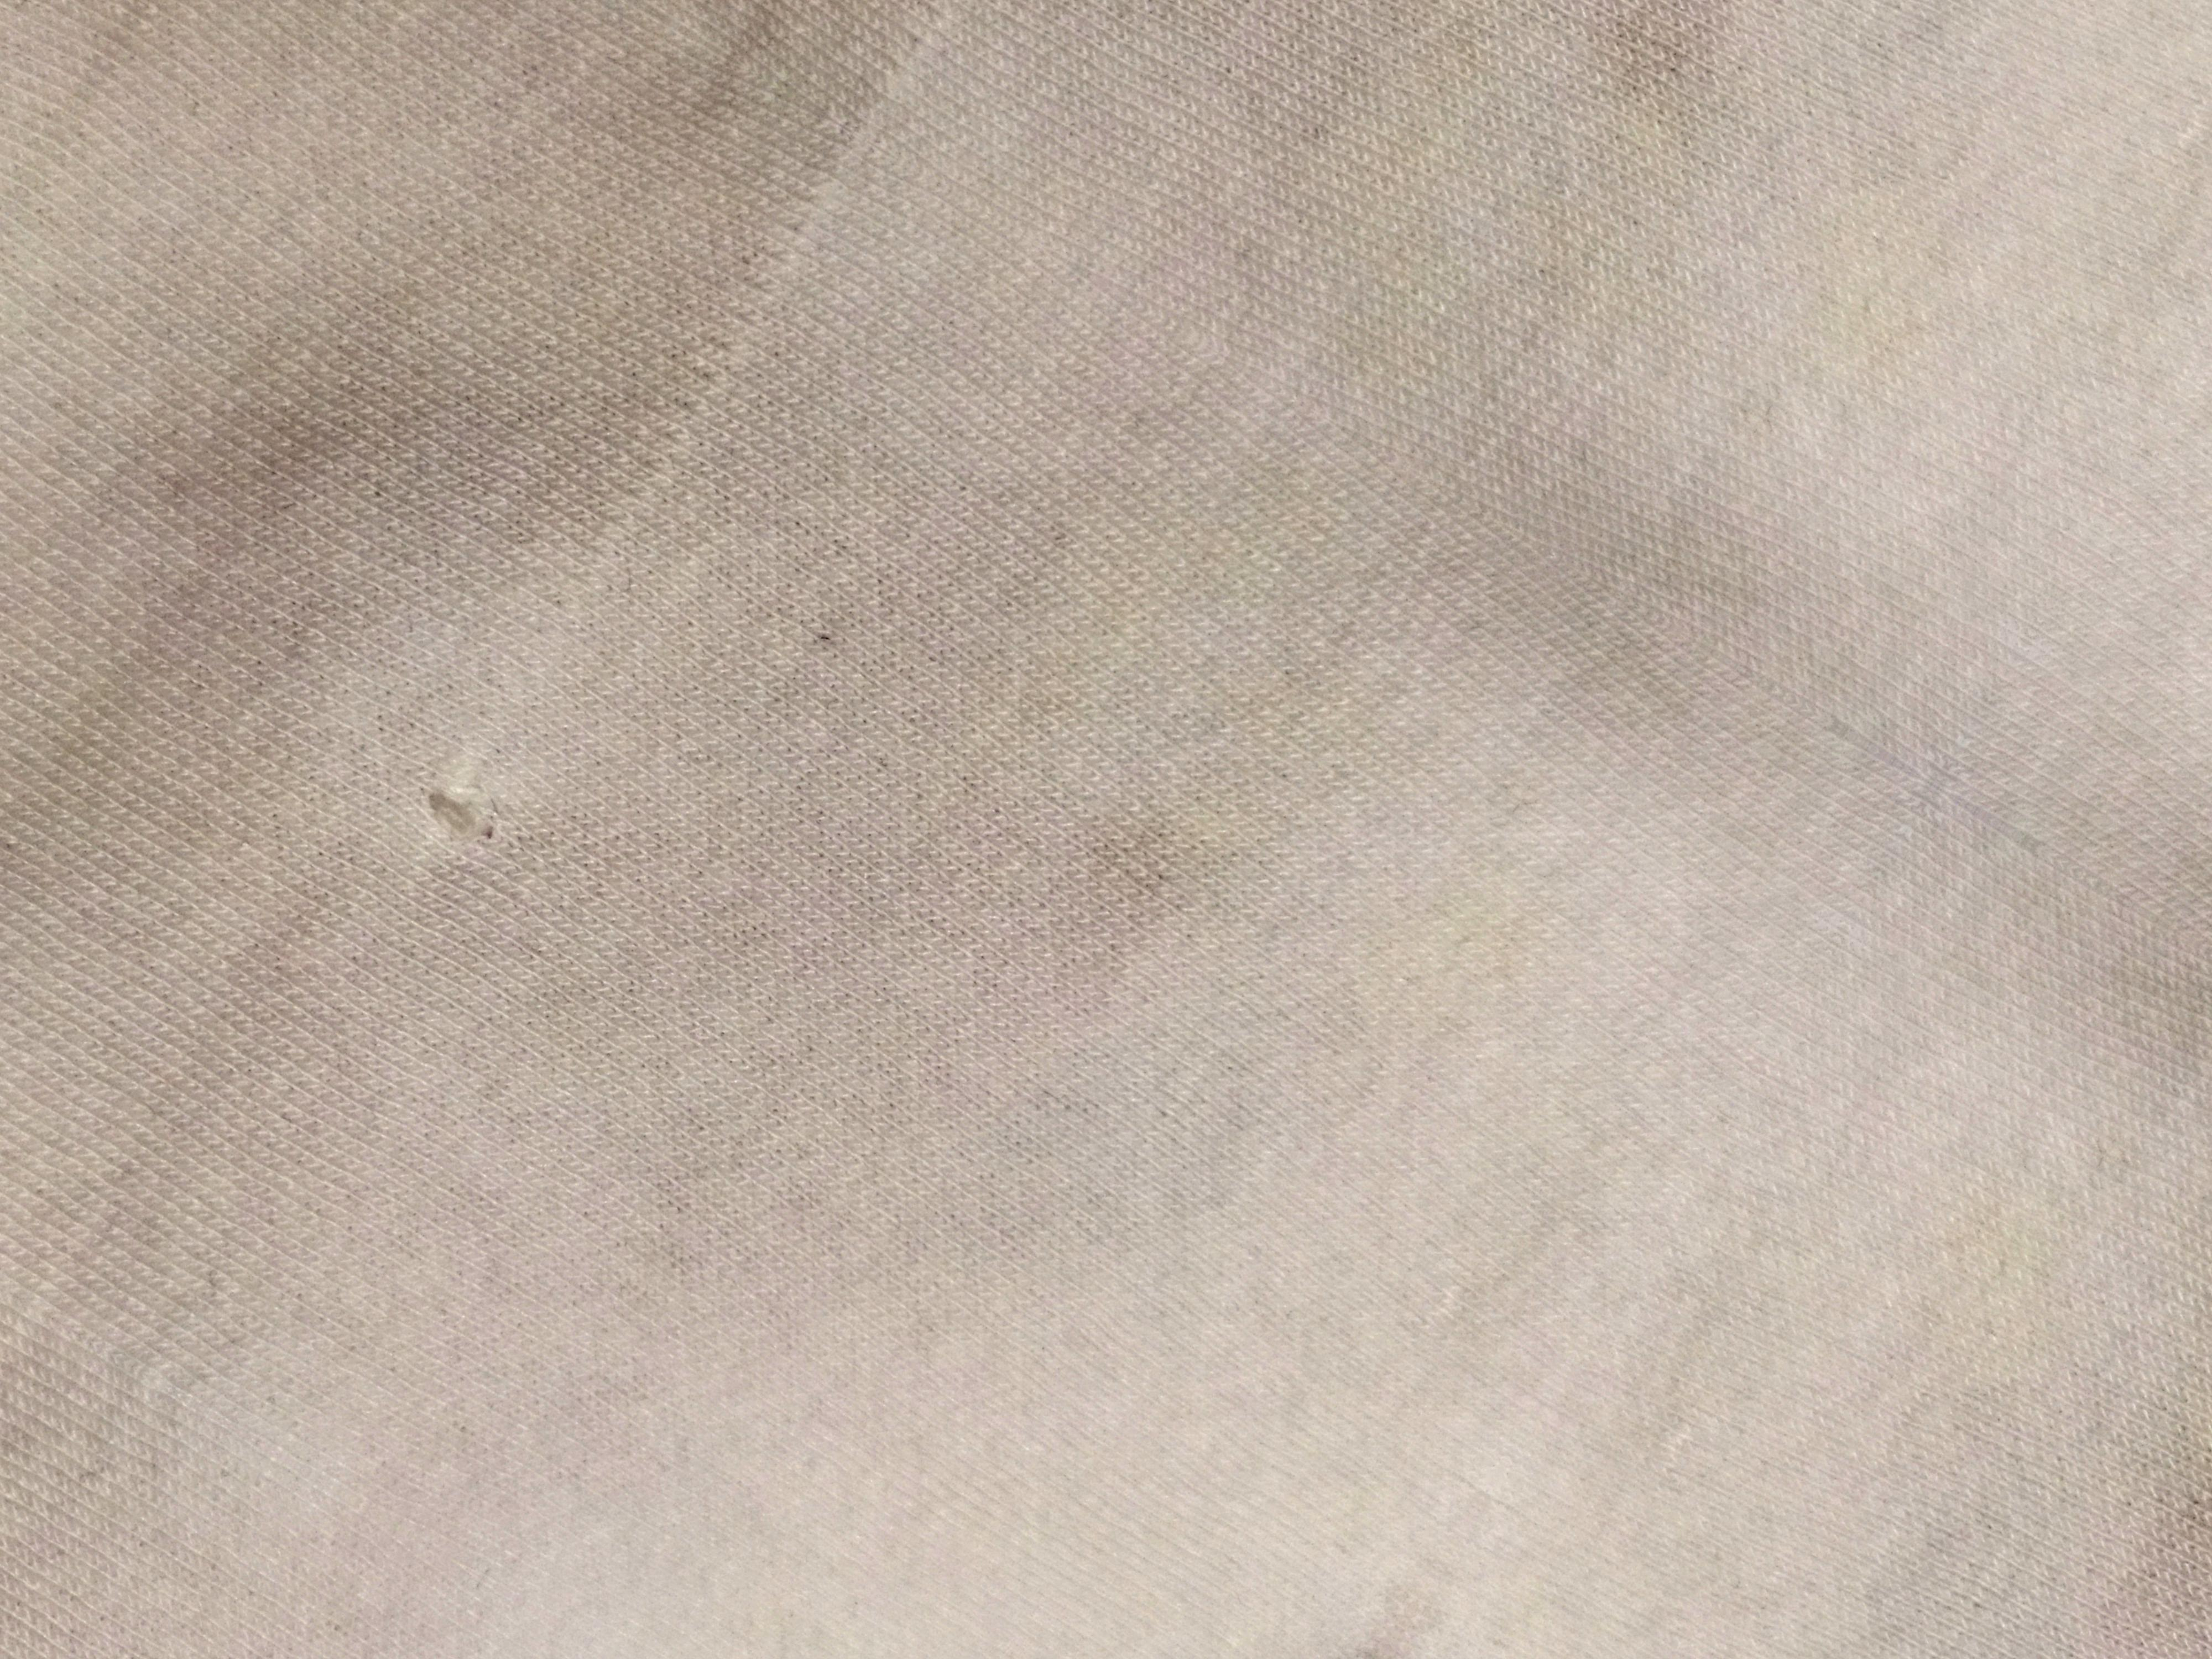knot: (381, 739, 535, 882)
